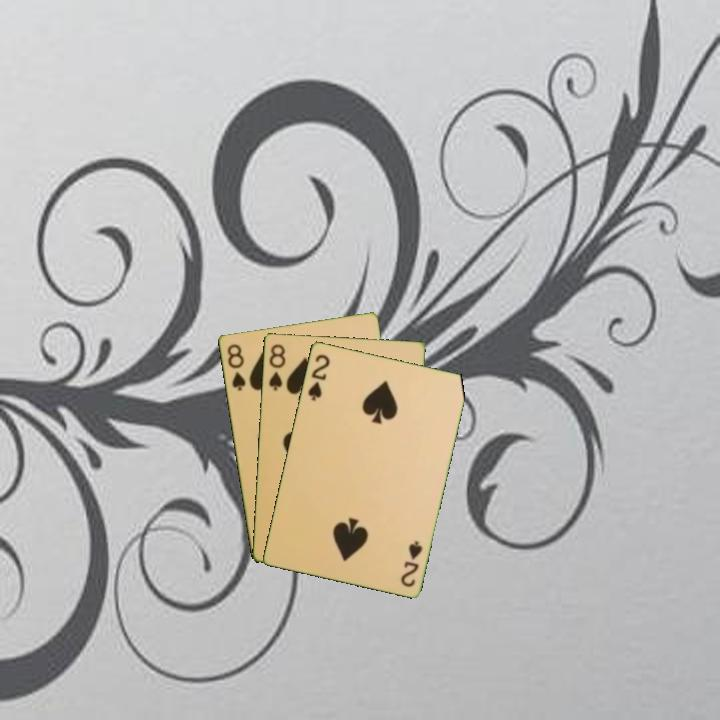2s: (304, 350, 332, 403), (397, 537, 425, 590)
8s: (223, 340, 248, 393), (265, 340, 288, 393)
